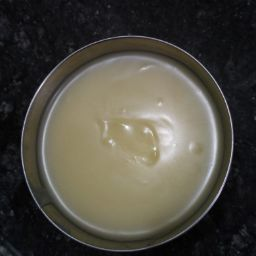Clarified Butter(ghee): (40, 60, 215, 237), (69, 94, 207, 214)
